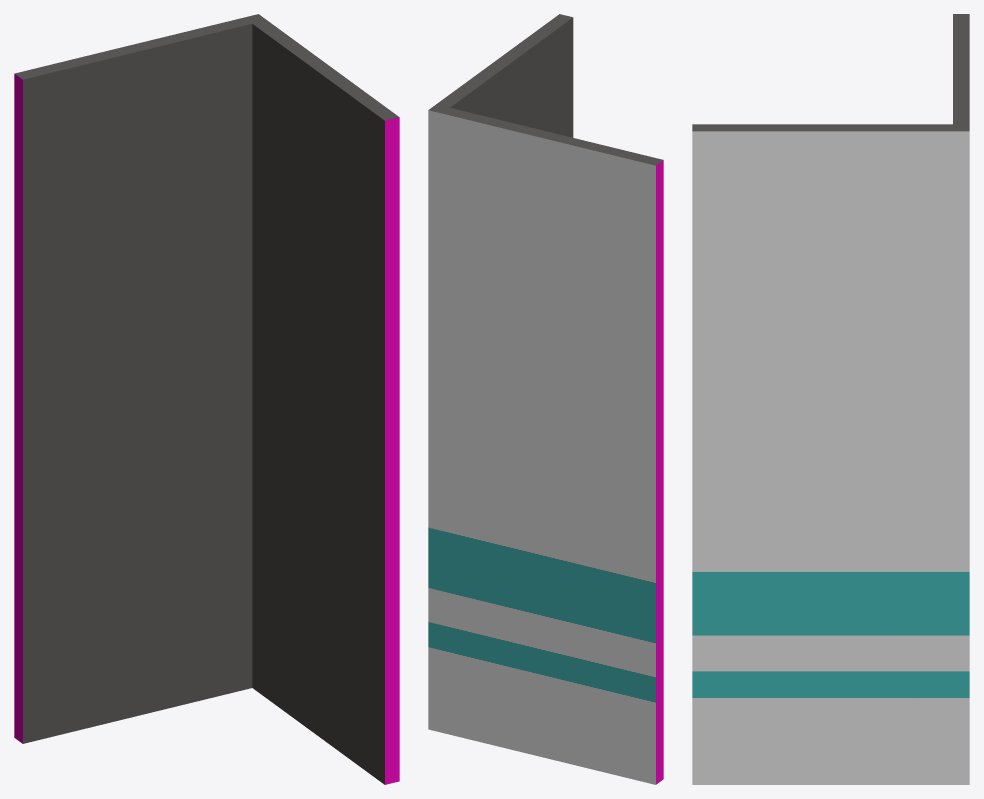
File: corner.gltf
3 renders of one model, left to right at view 1: azimuth 30°, elevation 25°; view 2: azimuth 150°, elevation 25°; view 3: azimuth 270°, elevation 25°, orthographic. The views are drawn at different scales.
Parts seen in each view (by area): view 1: Corner; view 2: Corner; view 3: Corner.
Boxes of the visible parts, x1=… form: Corner: x1=14, y1=14, x2=399, y2=784; Corner: x1=428, y1=14, x2=663, y2=784; Corner: x1=692, y1=14, x2=969, y2=784.
Bounding box in the file's own units: 1 × 2.6 × 1.
Materials: 3 (1 with a texture image).
